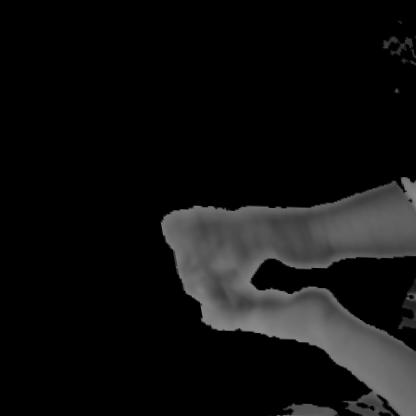clap: (139, 171, 370, 368)
